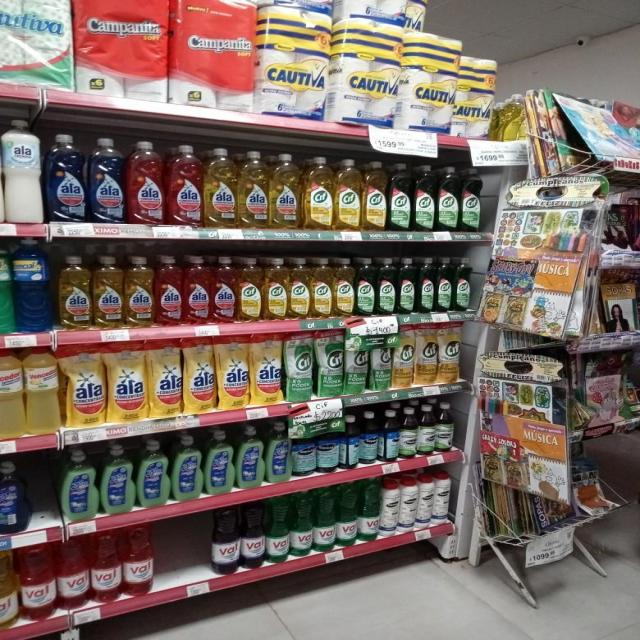ala_conc_amarillo: (204, 147, 237, 228), (57, 255, 91, 330), (238, 149, 268, 229), (270, 153, 300, 230), (93, 254, 123, 328), (124, 255, 154, 328)
ala_conc_azul: (46, 133, 86, 224), (88, 137, 125, 224)
ala_conc_rojo: (127, 140, 165, 226), (167, 144, 203, 228), (155, 255, 182, 326), (184, 255, 211, 325), (212, 256, 236, 323)
ala_crem_blanco: (3, 119, 44, 224)
ala_sachet_amarillo: (63, 342, 105, 427), (108, 340, 146, 422), (148, 338, 182, 418), (183, 336, 216, 414), (217, 334, 249, 409), (250, 332, 282, 405)
cif_conc_bot_amarilla: (303, 156, 333, 230), (335, 158, 361, 231), (362, 160, 387, 231), (263, 257, 288, 321), (238, 257, 262, 322), (333, 257, 355, 317), (289, 257, 310, 319), (311, 257, 332, 318)
cif_conc_botella_verde: (388, 162, 412, 232), (412, 164, 436, 232), (437, 166, 459, 232), (460, 167, 482, 232), (356, 257, 375, 316), (377, 257, 396, 315), (397, 257, 416, 314), (453, 257, 472, 312), (436, 257, 453, 312), (418, 257, 434, 313)
cif_conc_sachet_amarillo: (438, 322, 462, 384), (392, 324, 414, 389), (415, 323, 437, 386)
cif_conc_sachet_verde: (285, 331, 313, 402), (316, 328, 343, 398), (344, 328, 368, 396), (369, 328, 392, 392)
zorro: (101, 443, 134, 514), (136, 439, 169, 508), (171, 434, 202, 501), (204, 430, 234, 494), (236, 425, 264, 489)
